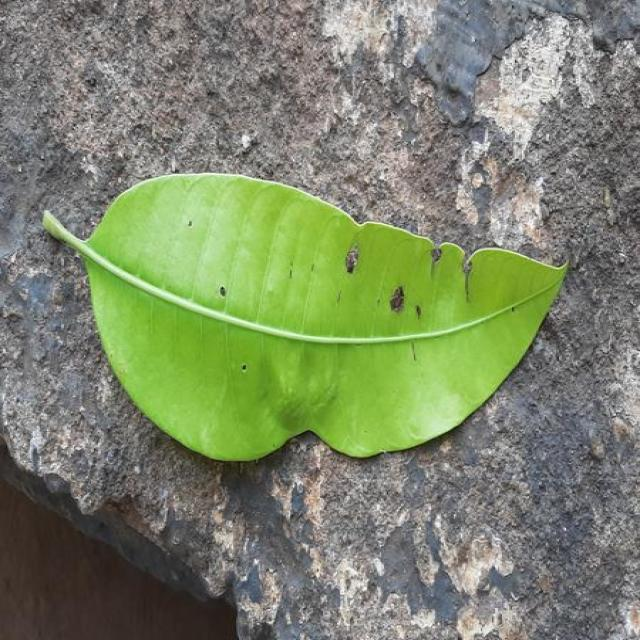Anthracnose: (128, 206, 477, 338)
mango: (43, 175, 563, 460)
